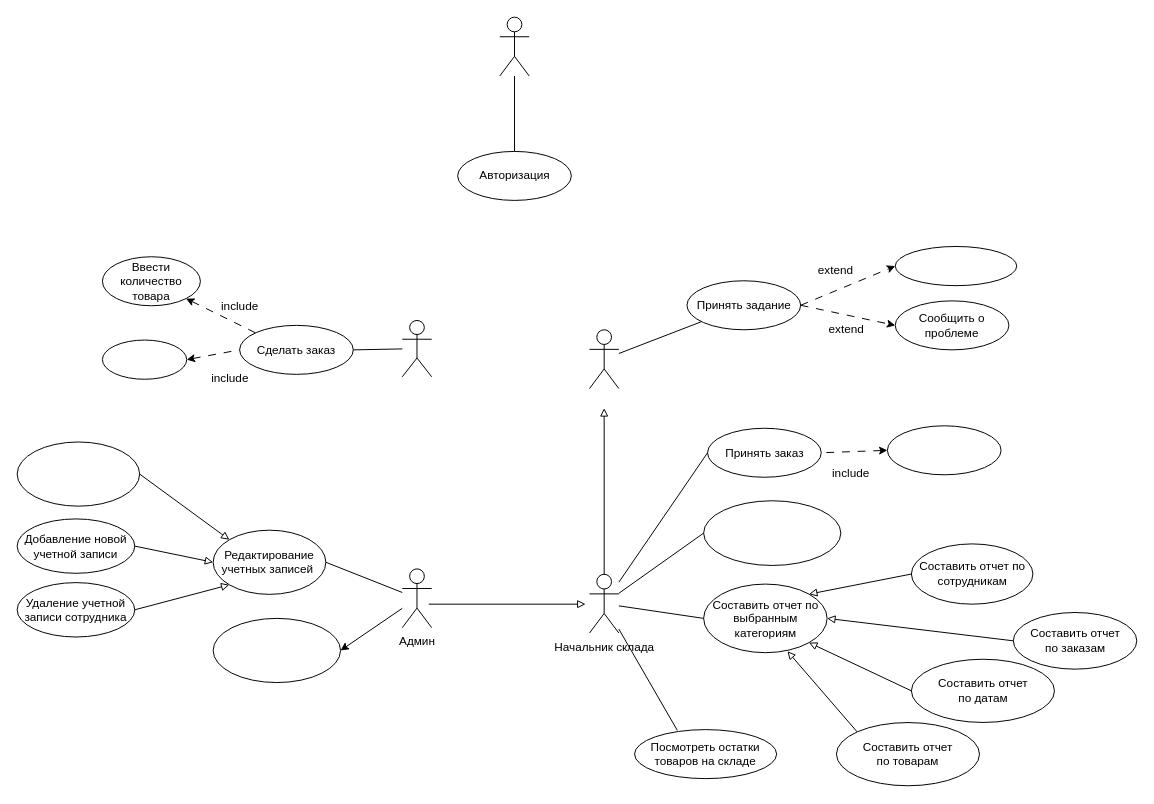
Some shapes in this 1154 by 804 pixel diagram are drawn without their labels. Here are the shapes that lost their labels. From the top down, the centre of each, then its label:
At (x=514, y=46): "Неавторизованный пользователь".
At (x=955, y=265): "Отгрузить товар".
At (x=144, y=359): "Ввести товар".
At (x=416, y=348): "Сотрудник магазина".
At (x=603, y=359): "Кладовщик".
At (x=943, y=450): "Назначить задачу кладовщику".
At (x=78, y=473): "Изменения учетной записи сотрудника".
At (x=772, y=532): "Ввести количество поступившего товара".
At (x=276, y=650): "Добавление новых позиций товаров".
